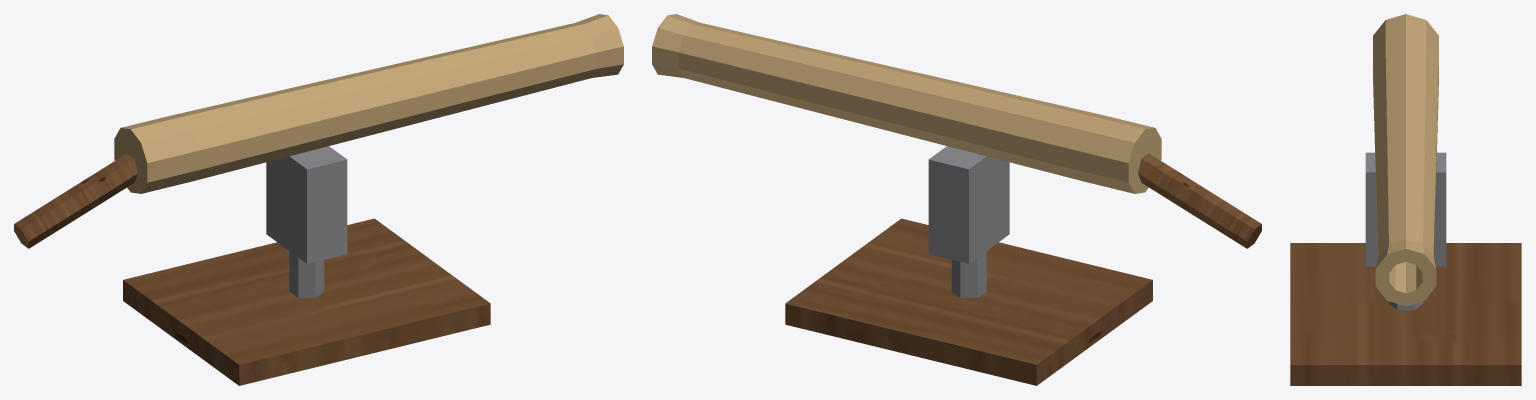
File: zamburak_swivel_gun.glb
3 views of the same model, side by side, from view 1: azimuth 30°, elevation 25°; view 2: azimuth 150°, elevation 25°; view 3: azimuth 270°, elevation 25° (orthographic).
Visible parts, largest first — view 1: Zamburak_Swivel_Gun; view 2: Zamburak_Swivel_Gun; view 3: Zamburak_Swivel_Gun.
Part boxes in pixels (x1=…): Zamburak_Swivel_Gun: x1=14, y1=14, x2=623, y2=385; Zamburak_Swivel_Gun: x1=652, y1=14, x2=1261, y2=385; Zamburak_Swivel_Gun: x1=1290, y1=14, x2=1521, y2=385.
Bounding box in the file's own units: 1.17 × 0.43 × 0.4.
3 materials, 1 textured.
